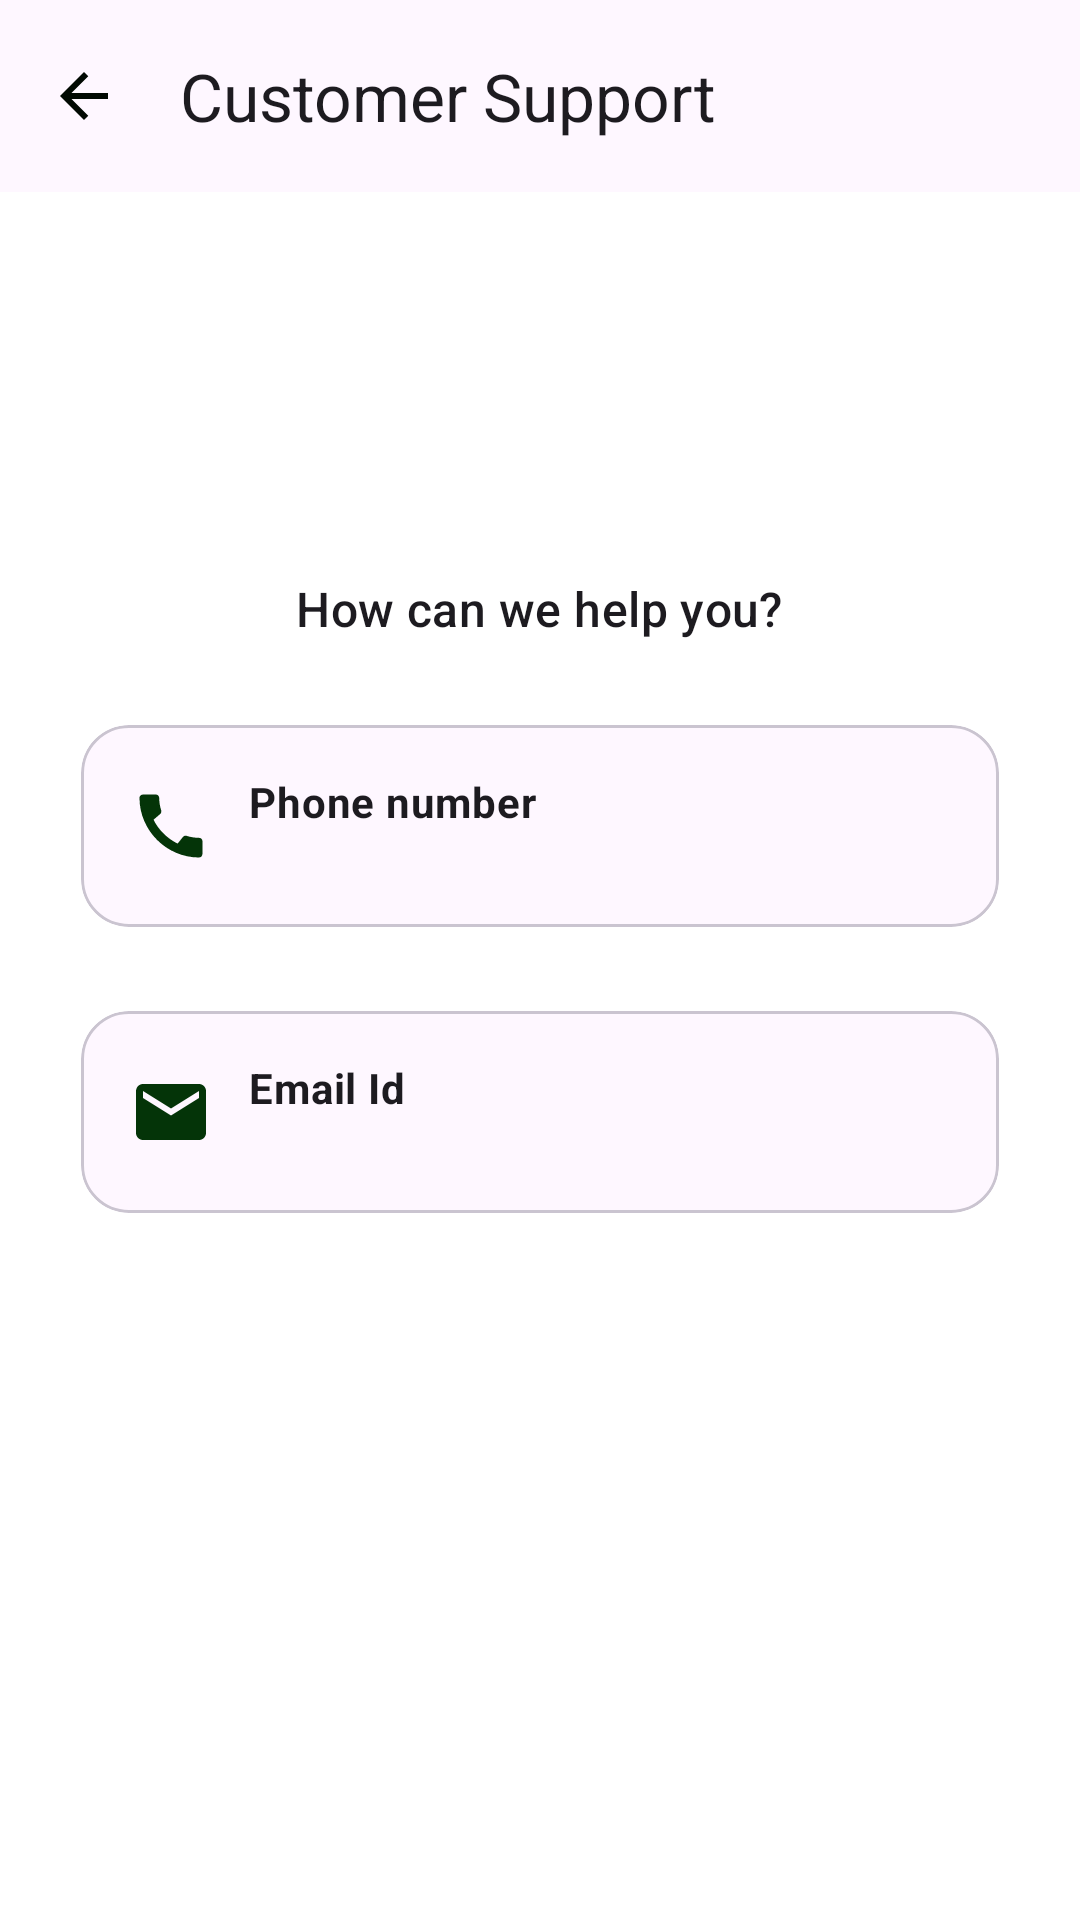

Where to tap for icons on this 1080 x 1920 app screen, as (x,y):
call: (171,826)
